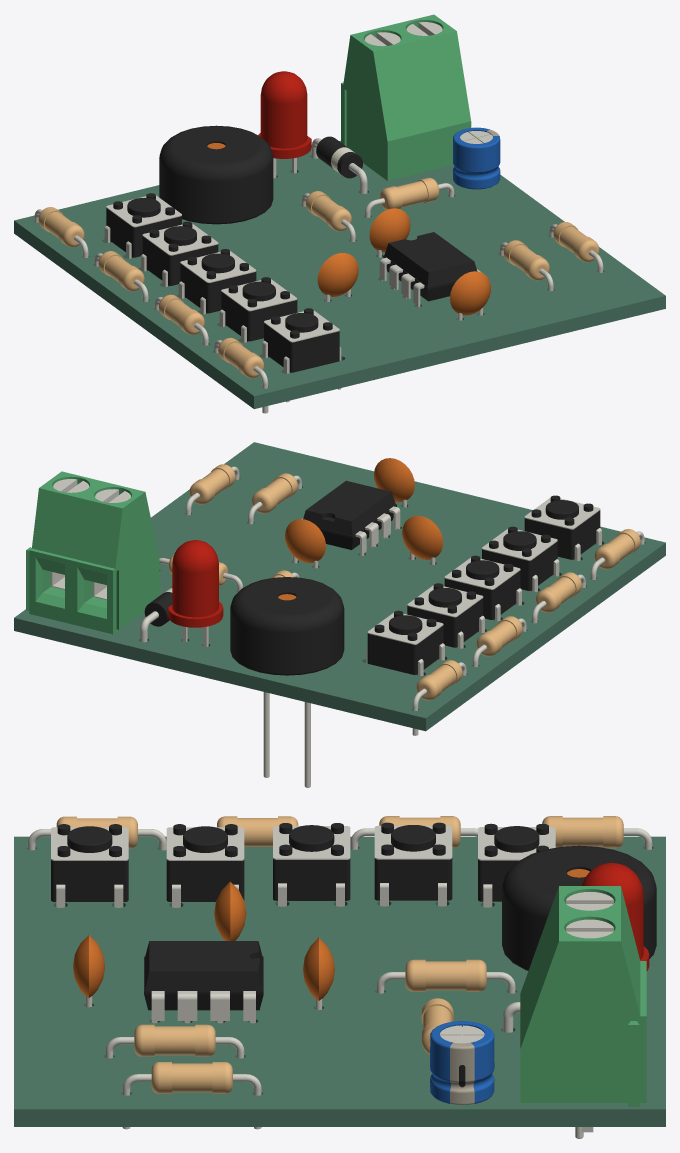
Rendered from piano.glb.
3 renders of one model, top to bottom at view 1: azimuth 30°, elevation 25°; view 2: azimuth 150°, elevation 25°; view 3: azimuth 270°, elevation 25°, orthographic. The views are drawn at different scales.
Parts seen in each view (by area): view 1: =>[0:1:1:20], =>[0:1:1:17], =>[0:1:1:3] (×5), =>[0:1:1:7] (×8), =>[0:1:1:13], =>[0:1:1:19], =>[0:1:1:15] (×3), =>[0:1:1:11], =>[0:1:1:5], =>[0:1:1:9]; view 2: =>[0:1:1:20], =>[0:1:1:17], =>[0:1:1:3] (×5), =>[0:1:1:13], =>[0:1:1:7] (×6), =>[0:1:1:19], =>[0:1:1:15] (×3), =>[0:1:1:11], =>[0:1:1:9]; view 3: =>[0:1:1:20], =>[0:1:1:3] (×5), =>[0:1:1:17], =>[0:1:1:7] (×8), =>[0:1:1:19], =>[0:1:1:13], =>[0:1:1:5], =>[0:1:1:15] (×3), =>[0:1:1:11].
Boxes of the visible parts, left/top/right/bottom form: =>[0:1:1:20]: left=14, top=140, right=665, bottom=409; =>[0:1:1:17]: left=341, top=14, right=471, bottom=180; =>[0:1:1:3] (×5): left=104, top=193, right=341, bottom=402; =>[0:1:1:7] (×8): left=34, top=177, right=603, bottom=413; =>[0:1:1:13]: left=159, top=125, right=273, bottom=224; =>[0:1:1:19]: left=379, top=232, right=481, bottom=307; =>[0:1:1:15] (×3): left=317, top=208, right=490, bottom=320; =>[0:1:1:11]: left=258, top=71, right=311, bottom=178; =>[0:1:1:5]: left=453, top=127, right=500, bottom=189; =>[0:1:1:9]: left=311, top=136, right=367, bottom=193; =>[0:1:1:20]: left=14, top=442, right=665, bottom=731; =>[0:1:1:17]: left=26, top=471, right=159, bottom=634; =>[0:1:1:3] (×5): left=366, top=495, right=601, bottom=676; =>[0:1:1:13]: left=230, top=577, right=344, bottom=787; =>[0:1:1:7] (×6): left=185, top=464, right=644, bottom=735; =>[0:1:1:19]: left=302, top=480, right=400, bottom=555; =>[0:1:1:15] (×3): left=285, top=458, right=442, bottom=568; =>[0:1:1:11]: left=168, top=540, right=223, bottom=646; =>[0:1:1:9]: left=140, top=587, right=172, bottom=642; =>[0:1:1:20]: left=14, top=836, right=665, bottom=1126; =>[0:1:1:3] (×5): left=51, top=822, right=555, bottom=907; =>[0:1:1:17]: left=520, top=886, right=646, bottom=1132; =>[0:1:1:7] (×8): left=27, top=816, right=652, bottom=1129; =>[0:1:1:19]: left=144, top=941, right=263, bottom=1023; =>[0:1:1:13]: left=502, top=845, right=656, bottom=1138; =>[0:1:1:5]: left=430, top=1021, right=494, bottom=1104; =>[0:1:1:15] (×3): left=73, top=881, right=334, bottom=1009; =>[0:1:1:11]: left=581, top=862, right=649, bottom=971.
Size of the model in its own units: 0.05 by 0.0288 by 0.0505.
